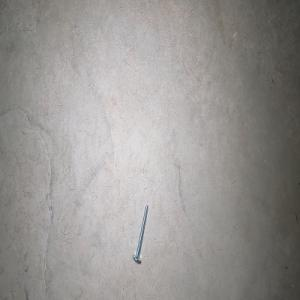Bolt: (132, 203, 148, 262)
